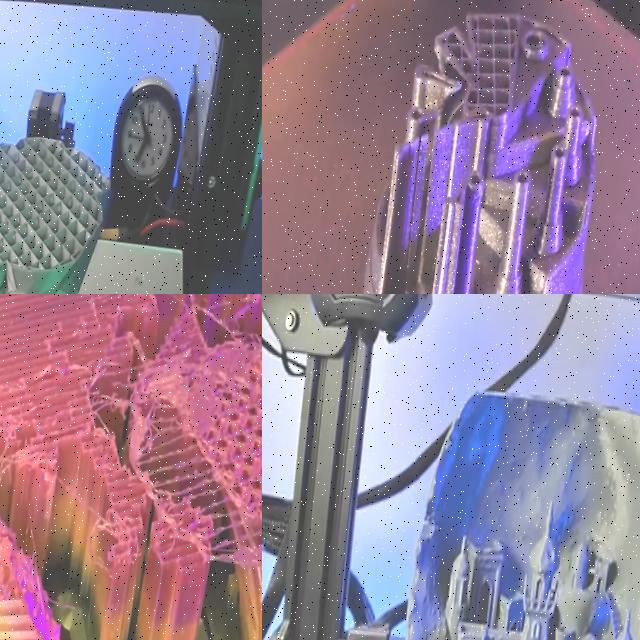spaghetti: (0, 294, 262, 504), (0, 455, 66, 624), (87, 508, 138, 581)
